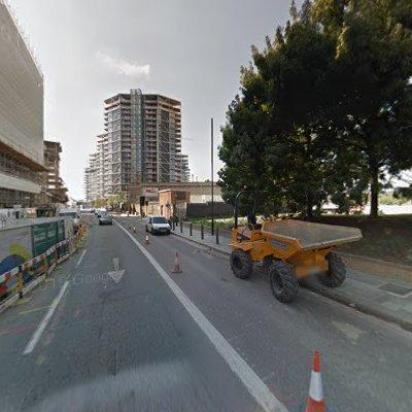moving-car: (97, 211, 113, 227)
stationary-light-truck-onstreet: (56, 206, 82, 230), (144, 214, 170, 236)
x_other: (230, 186, 366, 306)
